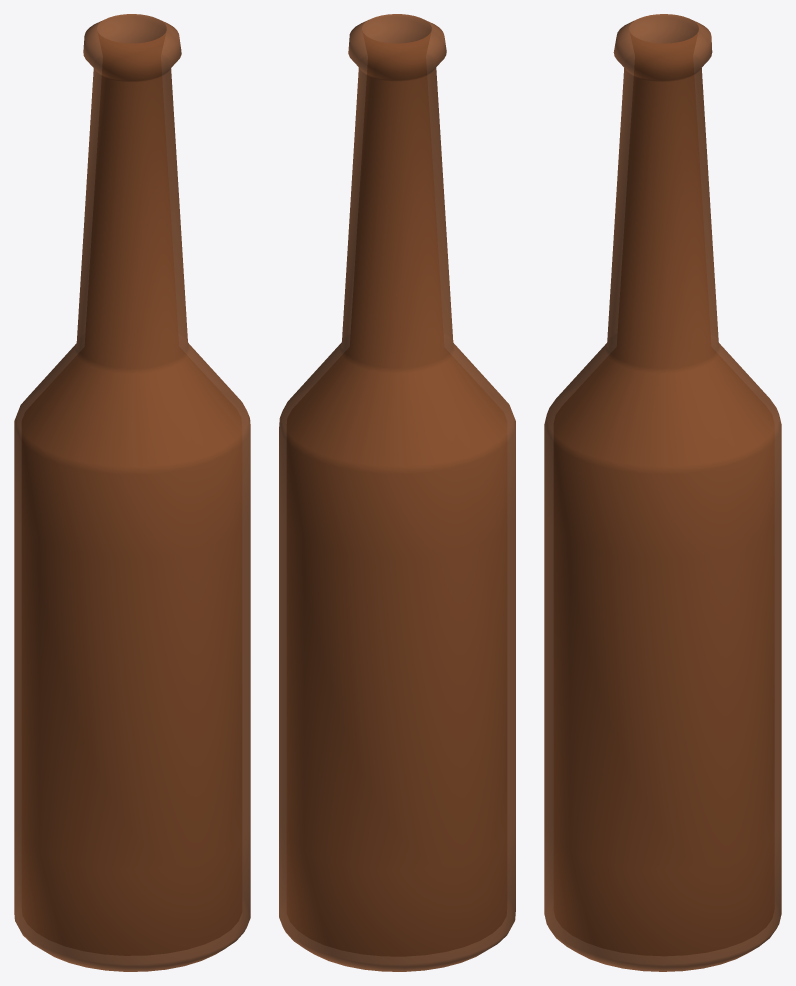
The model's file is beer_bottle.fbx.
The picture shows the model from 3 angles, left to right: view 1: azimuth 30°, elevation 25°; view 2: azimuth 150°, elevation 25°; view 3: azimuth 270°, elevation 25°; orthographic projection.
Visible parts, largest first — view 1: Plane; view 2: Plane; view 3: Plane.
Part boxes in pixels (x1=…): Plane: x1=14, y1=14, x2=250, y2=971; Plane: x1=279, y1=14, x2=515, y2=971; Plane: x1=544, y1=14, x2=781, y2=971.
Bounding box in the file's own units: 200 × 837 × 200.
